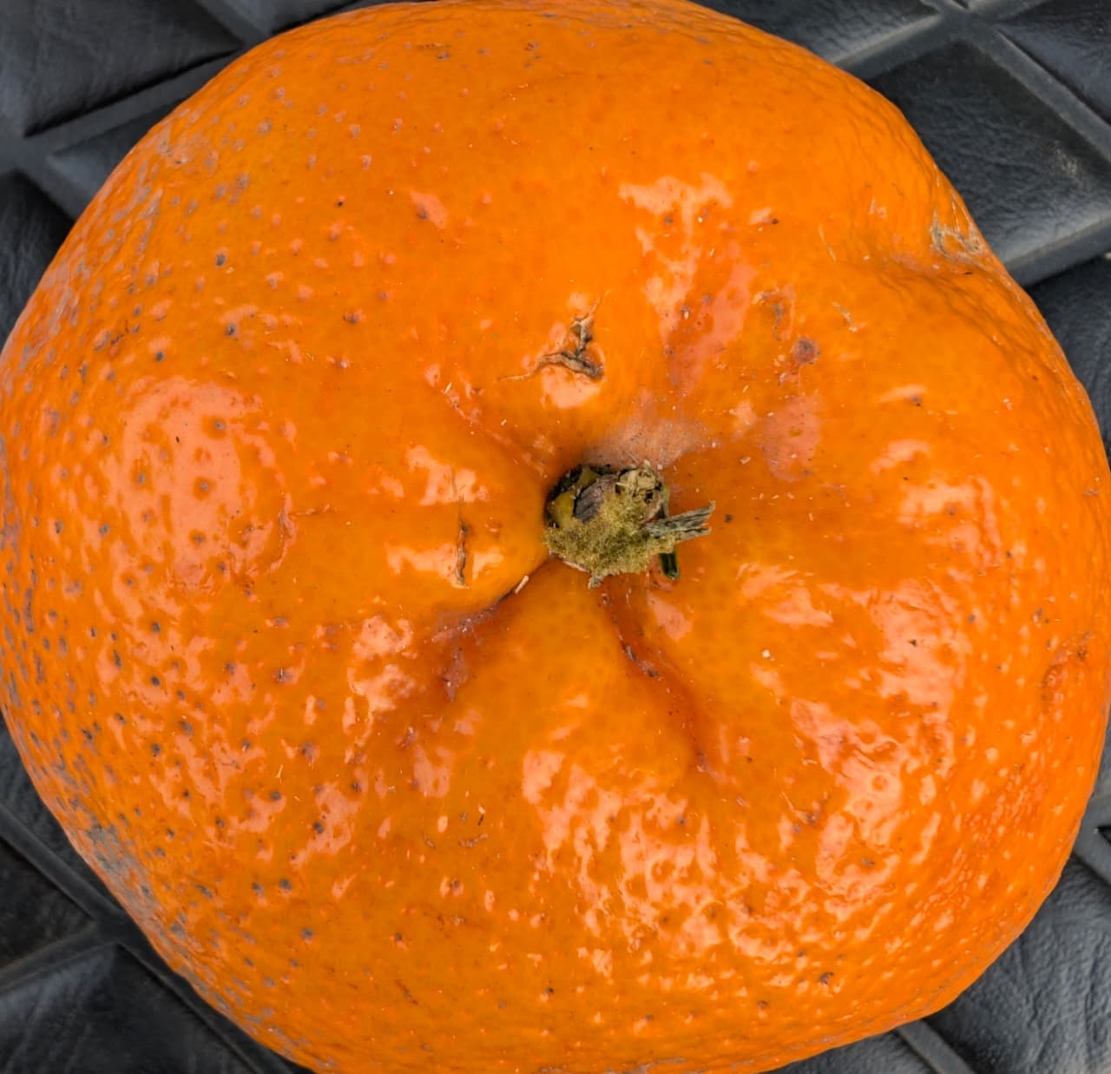orange: (207, 5, 974, 872)
